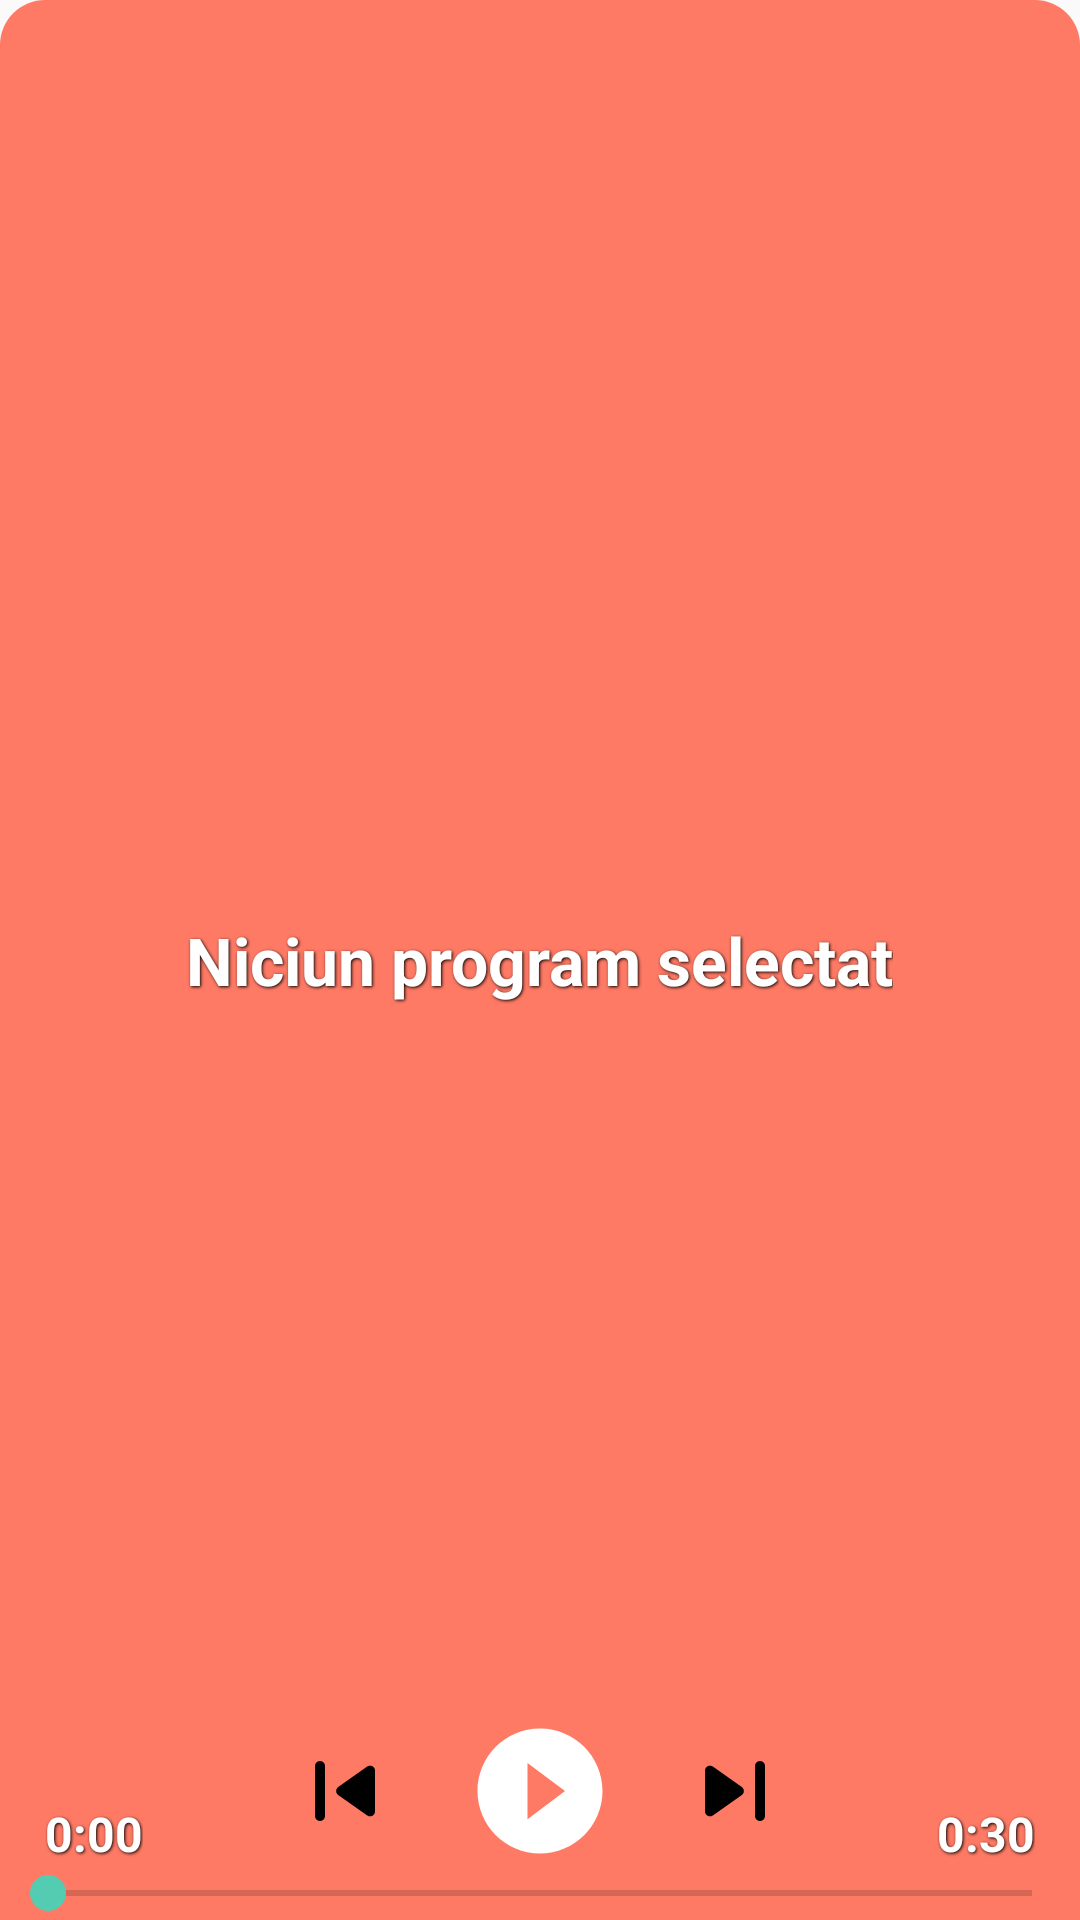

Locate icon controls on the screen. Image size 1080×1920, boxes as (x1, y1, x2, y2).
next: (705, 1761, 765, 1821)
play: (477, 1728, 603, 1854)
previous: (315, 1761, 375, 1821)
